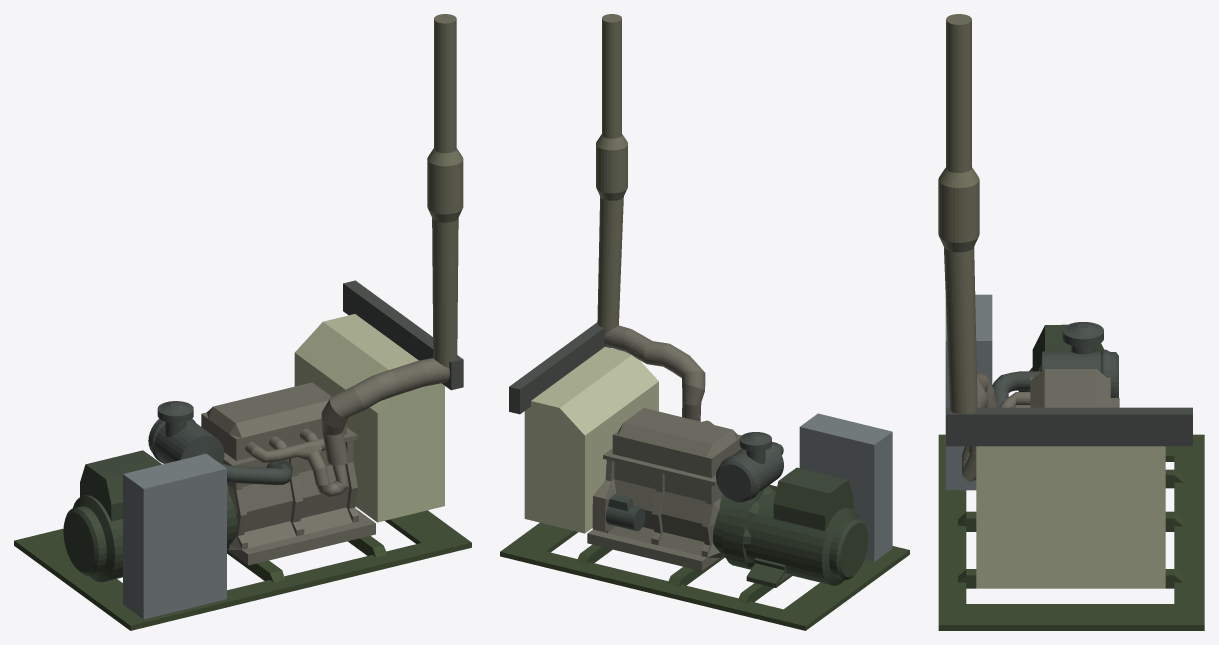
File: Generator.fbx
The picture shows the model from 3 angles, left to right: view 1: azimuth 30°, elevation 25°; view 2: azimuth 150°, elevation 25°; view 3: azimuth 270°, elevation 25°; orthographic projection. The views are drawn at different scales.
Visible parts, largest first — view 1: Cylinder.004; view 2: Cylinder.004; view 3: Cylinder.004.
Boxes of the visible parts, <box> form: Cylinder.004: <box>14,14,471,630</box>; Cylinder.004: <box>500,14,909,630</box>; Cylinder.004: <box>938,14,1204,630</box>.
Bounding box in the file's own units: 223 × 329 × 132.
